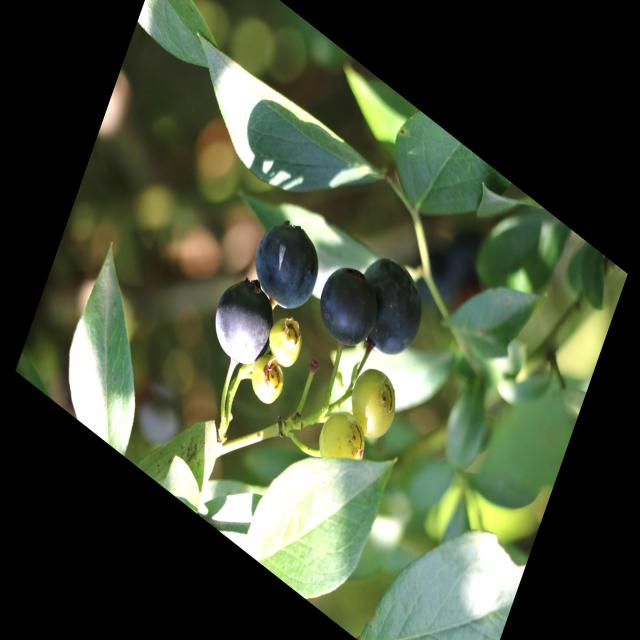blueberry: (344, 242, 434, 373), (245, 207, 326, 325), (204, 269, 282, 382), (310, 253, 386, 363)
blueberry-unripe: (342, 354, 406, 450), (313, 398, 374, 484), (260, 304, 310, 380), (243, 346, 292, 416)
